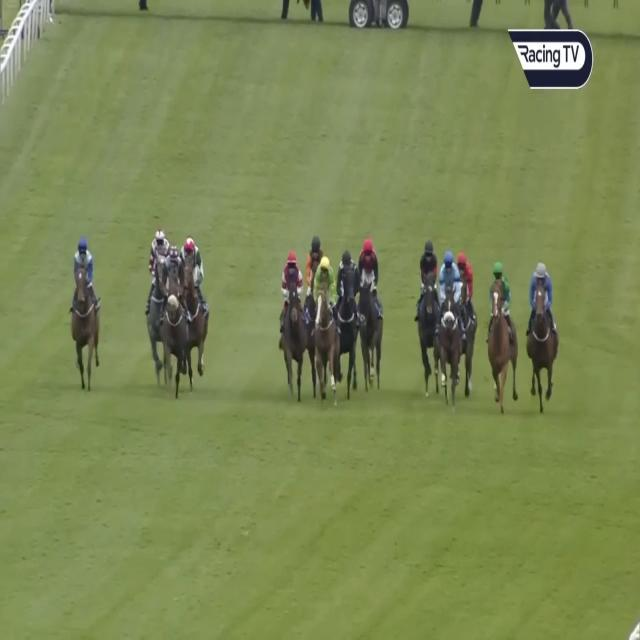horses-racing: (158, 245, 188, 394), (279, 254, 309, 392), (488, 260, 516, 406), (73, 235, 99, 383), (529, 260, 555, 408), (436, 252, 461, 404), (313, 257, 336, 403), (416, 238, 440, 376), (144, 224, 170, 350), (335, 249, 359, 382), (358, 240, 382, 372), (185, 232, 204, 366), (458, 251, 475, 393), (304, 234, 323, 311)
